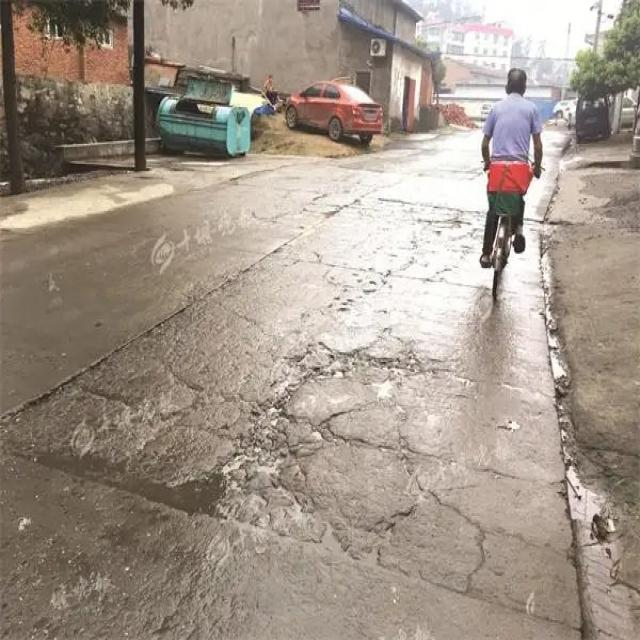Pothole: (19, 409, 378, 557), (276, 344, 434, 396), (390, 201, 475, 289)
